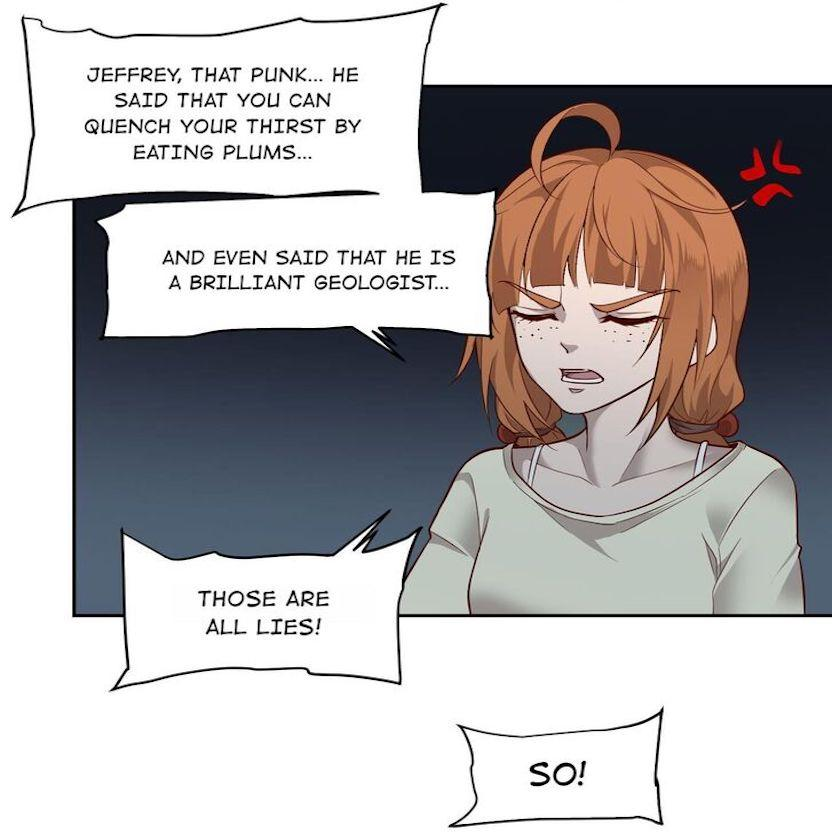Bubble: (11, 1, 447, 191), (95, 197, 503, 341), (108, 527, 424, 693), (452, 708, 667, 830)
